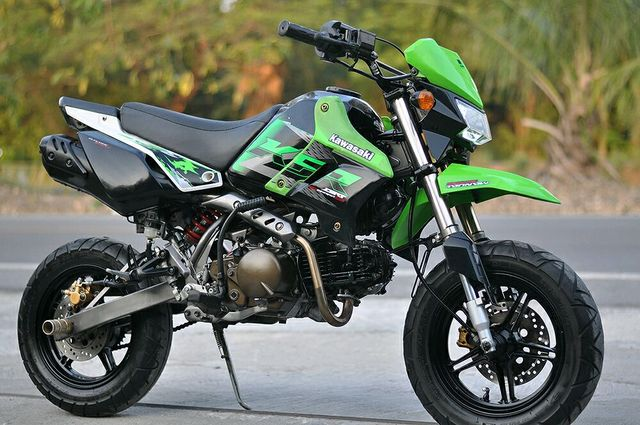motorcycle: (28, 38, 606, 425)
